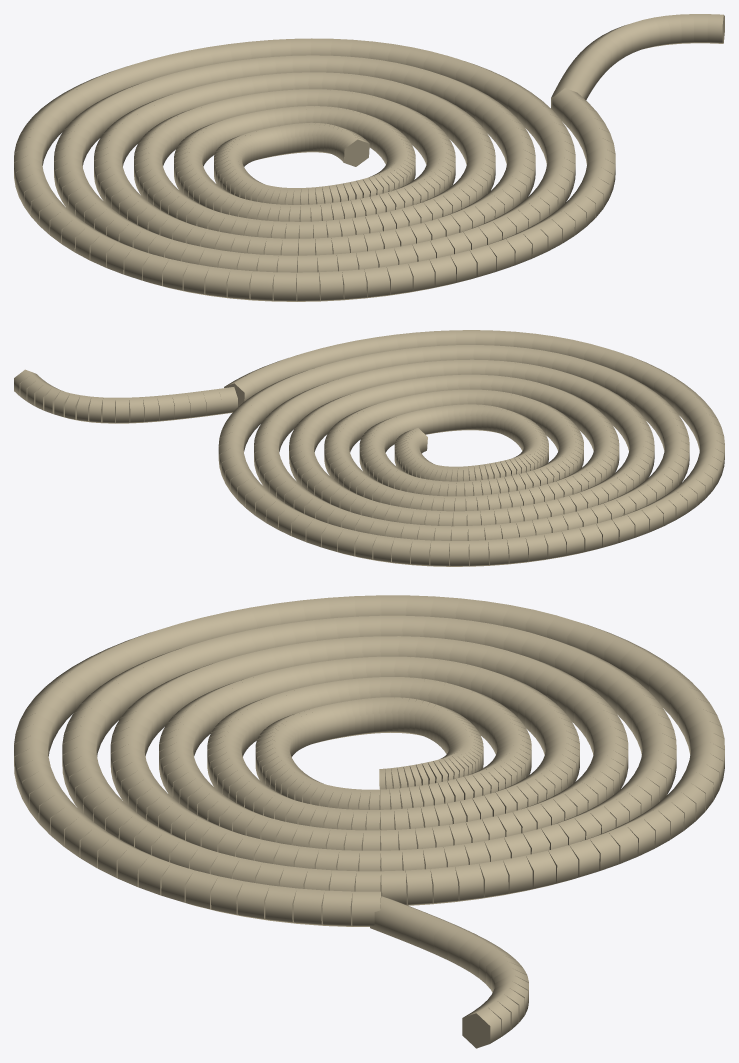
File: mooring_warp_coil.glb
3 renders of one model, top to bottom at view 1: azimuth 30°, elevation 25°; view 2: azimuth 150°, elevation 25°; view 3: azimuth 270°, elevation 25°, orthographic. The views are drawn at different scales.
Parts seen in each view (by area): view 1: Structure; view 2: Structure; view 3: Structure.
Boxes of the visible parts, box(x1,y1,x2,y2) form: Structure: box(14, 14, 724, 301); Structure: box(14, 330, 724, 566); Structure: box(14, 595, 724, 1048).
Bounding box in the file's own units: 1.38 × 0.065 × 0.9801.
